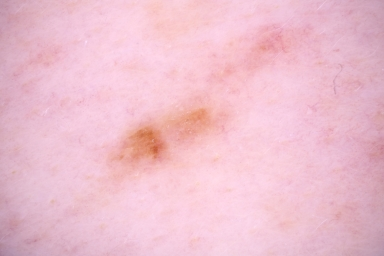nevus: (106, 127, 172, 164)
